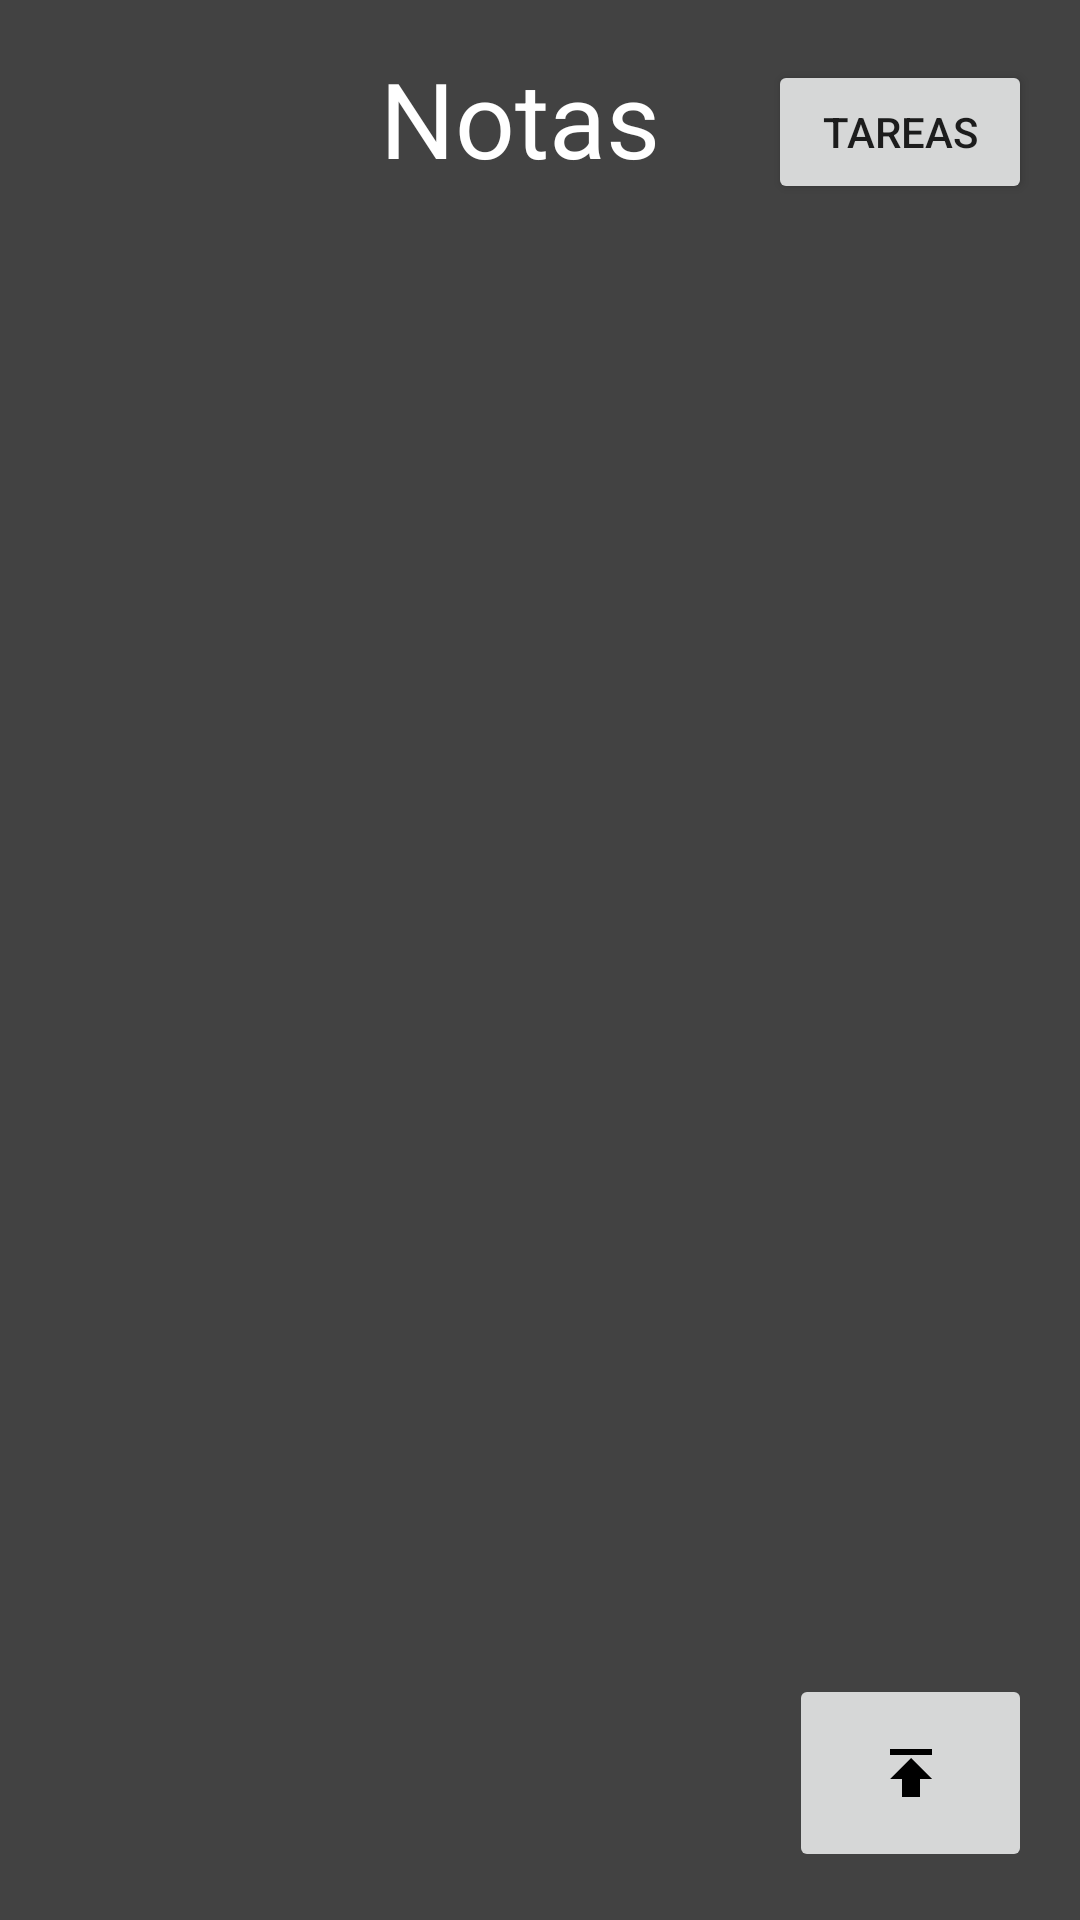

Locate icon controls on the screen. Image size 1080 × 1920, boxes as [x1,y1,x2,y2].
publish: [801,1692,1020,1854]
